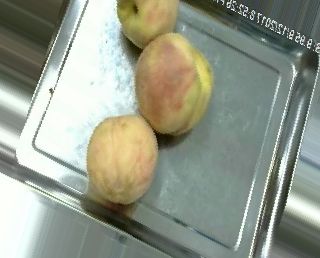Peach: (135, 33, 213, 134), (85, 114, 156, 205), (113, 1, 180, 47)
